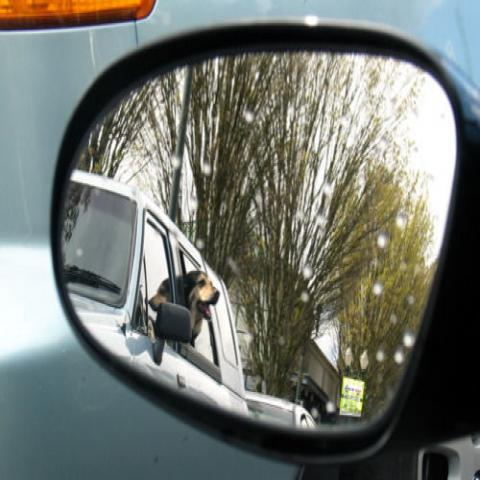car: (1, 0, 479, 475)
truck: (64, 171, 249, 411)
